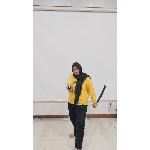Pedang: (66, 65, 74, 93)
